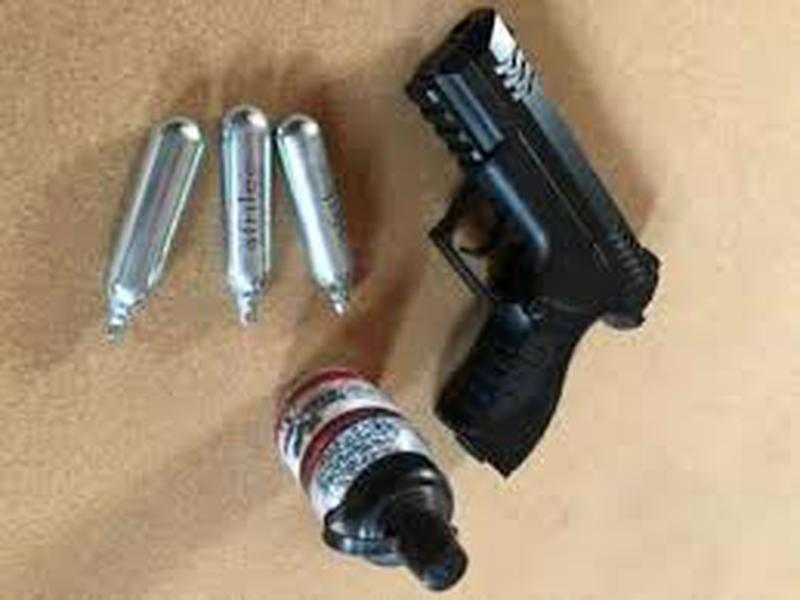gun: (400, 3, 668, 479)
